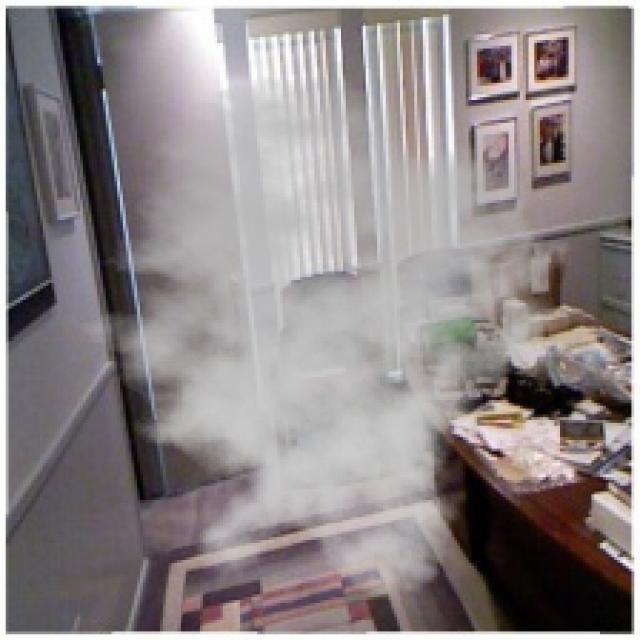smoke: (57, 74, 586, 600)
